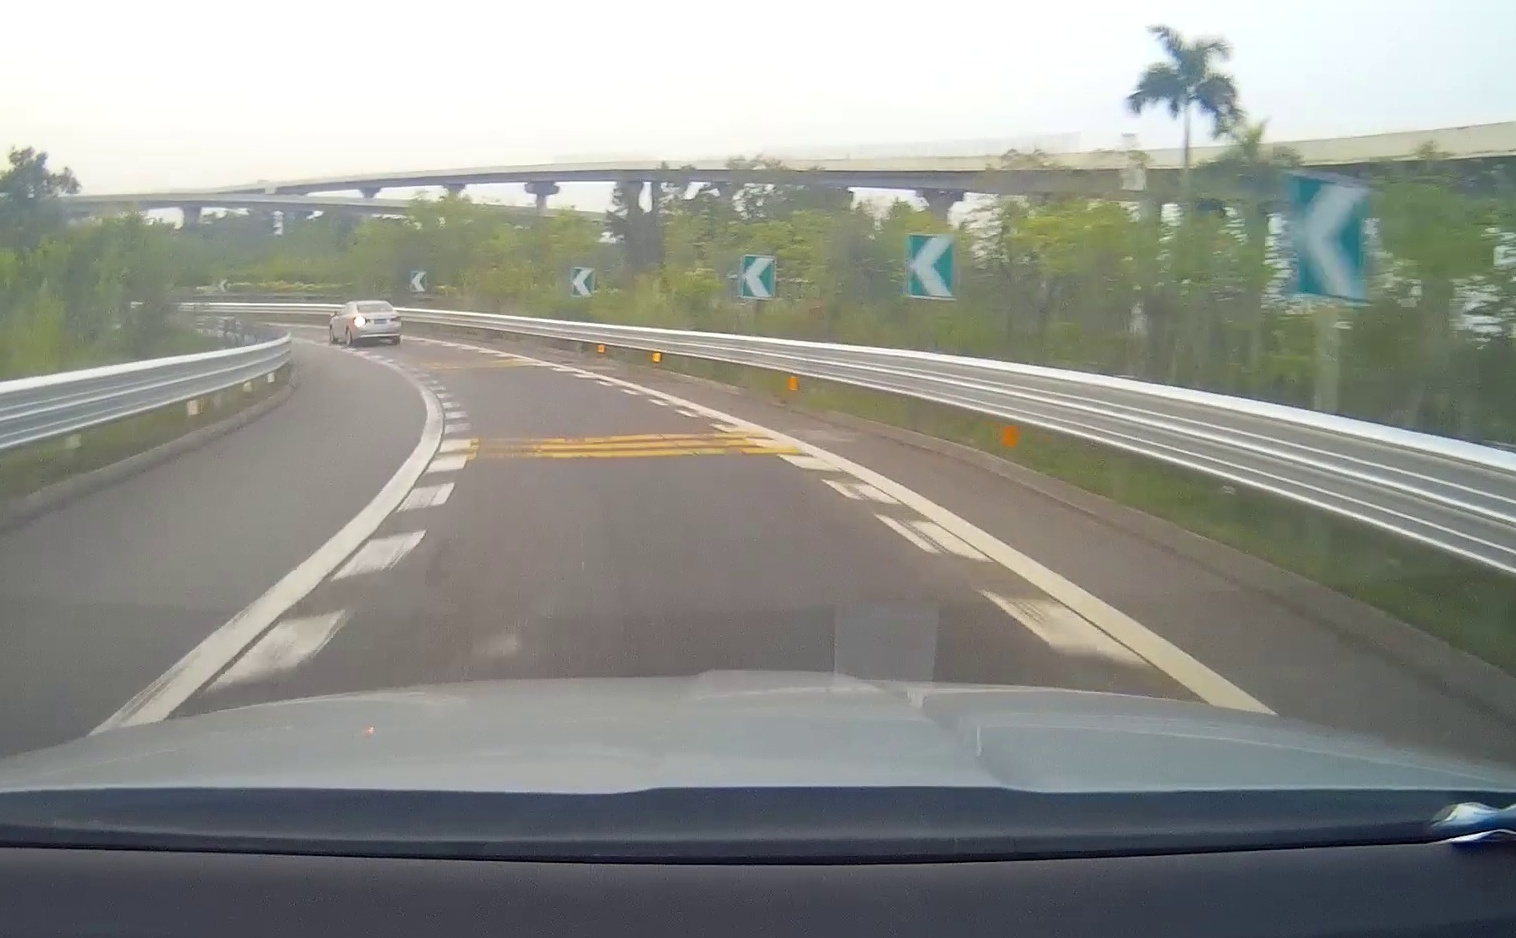L_light: (354, 317, 370, 326)
R_light: (390, 316, 401, 322)
T_light: (371, 309, 380, 313)
day-left: (353, 300, 402, 346)
